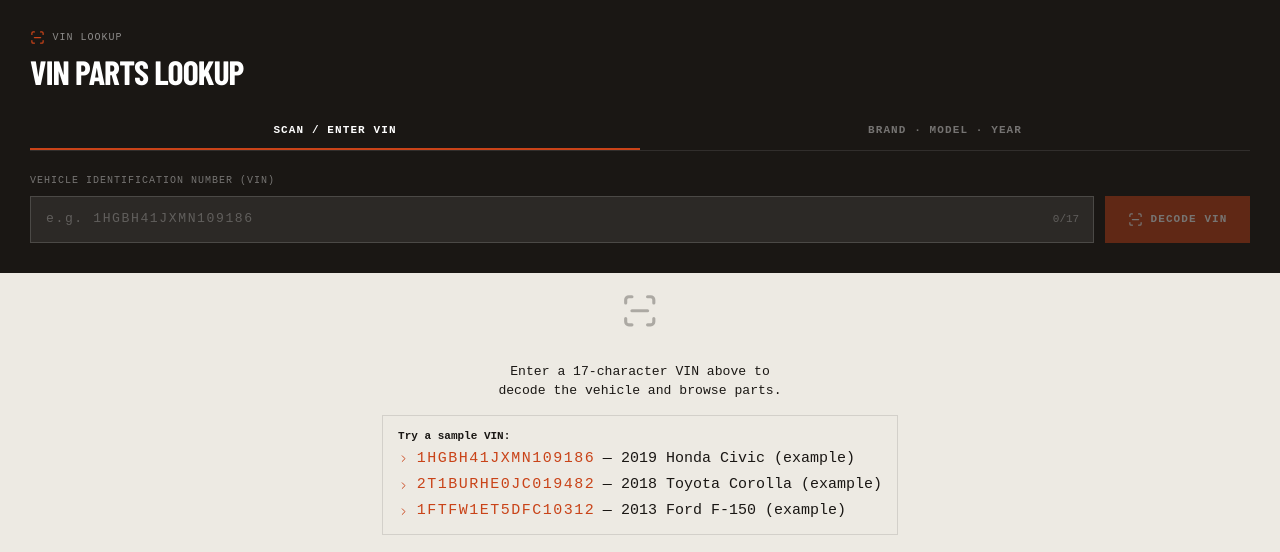
it: VinLookup page › counts only legal VIN characters and enables decode past the minimum
Expected: the button "Decode VIN" is disabled, x1=1106 y1=196 x2=1250 y2=243
In the field with placeholder "e.g. 1HGBH41JXMN109186": coordinates (562, 219) x1=30 y1=196 x2=1094 y2=243, type "1ftfw1e50-mfa"
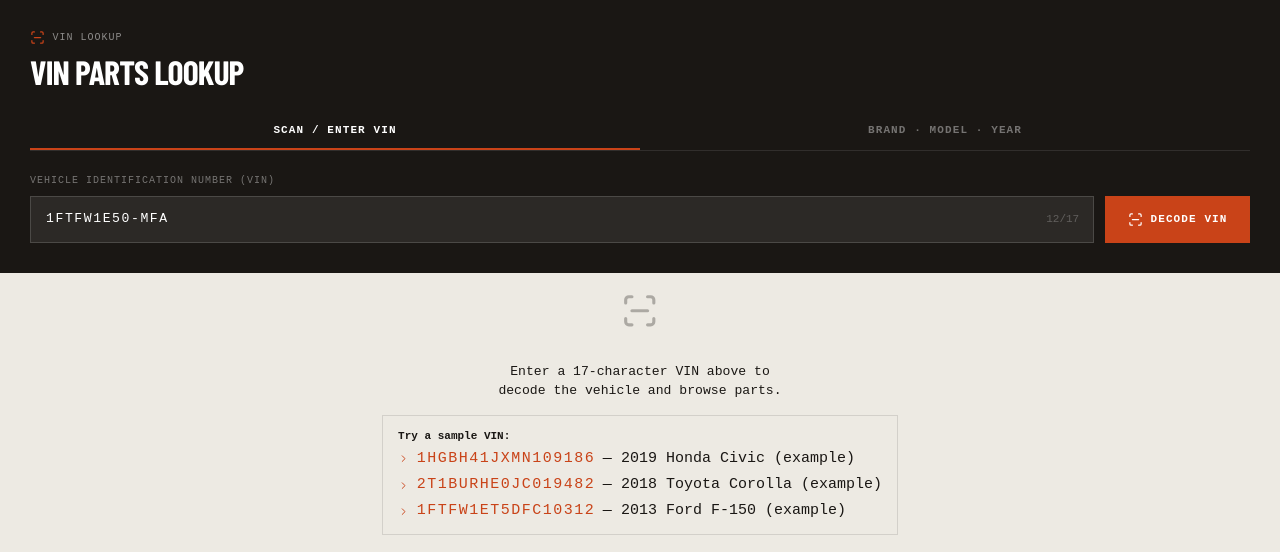
Now the text "12/17" is shown, box x1=1046 y1=211 x2=1079 y2=228
Now the button "Decode VIN" is enabled, box x1=1106 y1=196 x2=1250 y2=243
